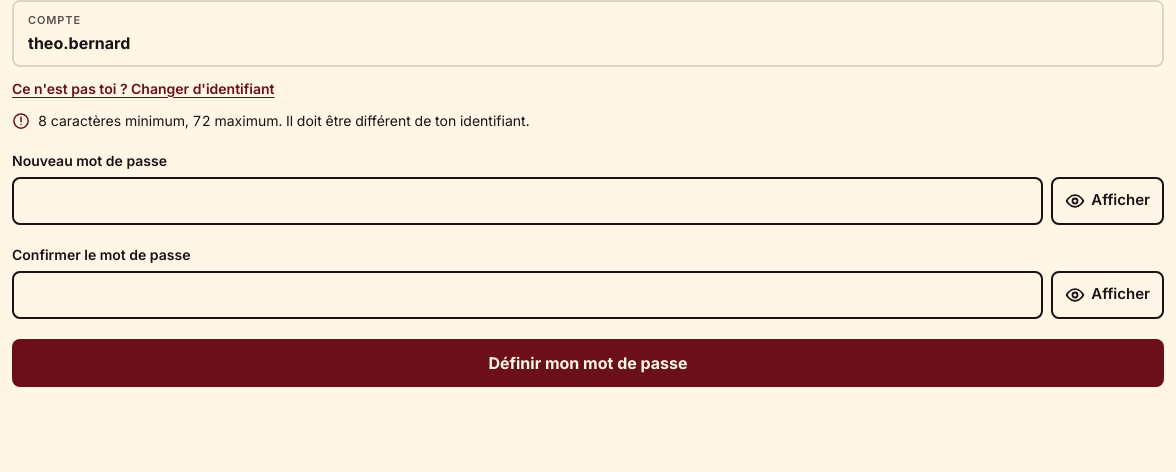
Test: InitPasswordForm › erreur globale annoncée
The image size is (1176, 472).
Step 1. Click the button "Définir mon mot de passe" → (588, 362), box top-left (12, 338), bottom-right (1164, 386)
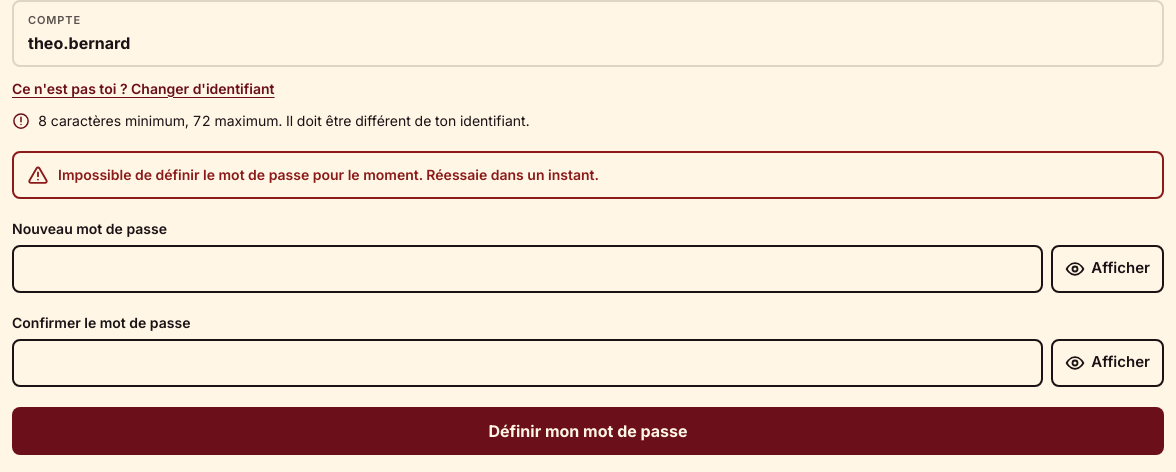
Expected: the message shows "Impossible de définir le mot de passe", top-left (58, 166), bottom-right (599, 182)
